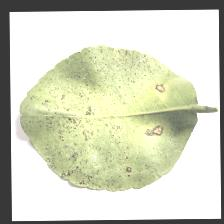canker: (55, 117, 120, 184)
